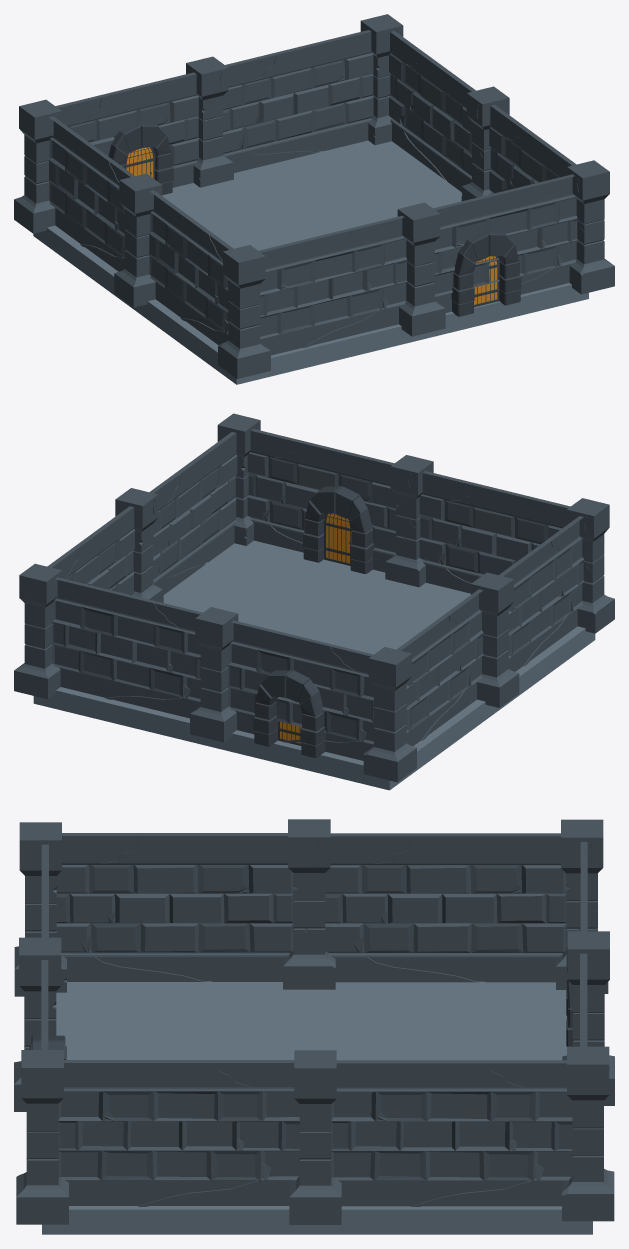
File: Room2C.obj
3 renders of one model, top to bottom at view 1: azimuth 30°, elevation 25°; view 2: azimuth 150°, elevation 25°; view 3: azimuth 270°, elevation 25°, orthographic. The views are drawn at different scales.
Parts seen in each view (by area): view 1: Pillar+Wall.005, Pillar+Wall.002, Cube.231, Pillar+Wall.003, Pillar+Wall.004, Arch.002, Arch.003, door.002, door.006; view 2: Pillar+Wall.002, Pillar+Wall.005, Cube.231, Pillar+Wall.003, Pillar+Wall.004, Arch.003, Arch.002, door.002; view 3: Pillar+Wall.004, Pillar+Wall.003, Cube.231, Pillar+Wall.002, Pillar+Wall.005.
Part boxes in pixels (x1,y1,x2,y2): Pillar+Wall.005: [218, 174, 577, 378]; Pillar+Wall.002: [55, 14, 403, 187]; Cube.231: [33, 140, 588, 384]; Pillar+Wall.003: [14, 99, 233, 345]; Pillar+Wall.004: [389, 31, 614, 294]; Arch.002: [451, 230, 521, 316]; Arch.003: [108, 121, 173, 195]; door.002: [474, 256, 499, 307]; door.006: [125, 147, 155, 179]; Pillar+Wall.002: [14, 563, 374, 760]; Pillar+Wall.005: [247, 429, 614, 633]; Cube.231: [33, 540, 595, 790]; Pillar+Wall.003: [363, 516, 584, 782]; Pillar+Wall.004: [47, 413, 260, 602]; Arch.003: [253, 670, 325, 758]; Arch.002: [303, 486, 374, 573]; door.002: [323, 513, 351, 565]; Pillar+Wall.004: [16, 1050, 572, 1224]; Pillar+Wall.003: [56, 819, 608, 993]; Cube.231: [42, 981, 592, 1234]; Pillar+Wall.002: [562, 842, 614, 1221]; Pillar+Wall.005: [14, 822, 66, 1111].
Bounding box in the file's own units: 10.88 × 3.51 × 10.91.
1 material, 1 textured.
